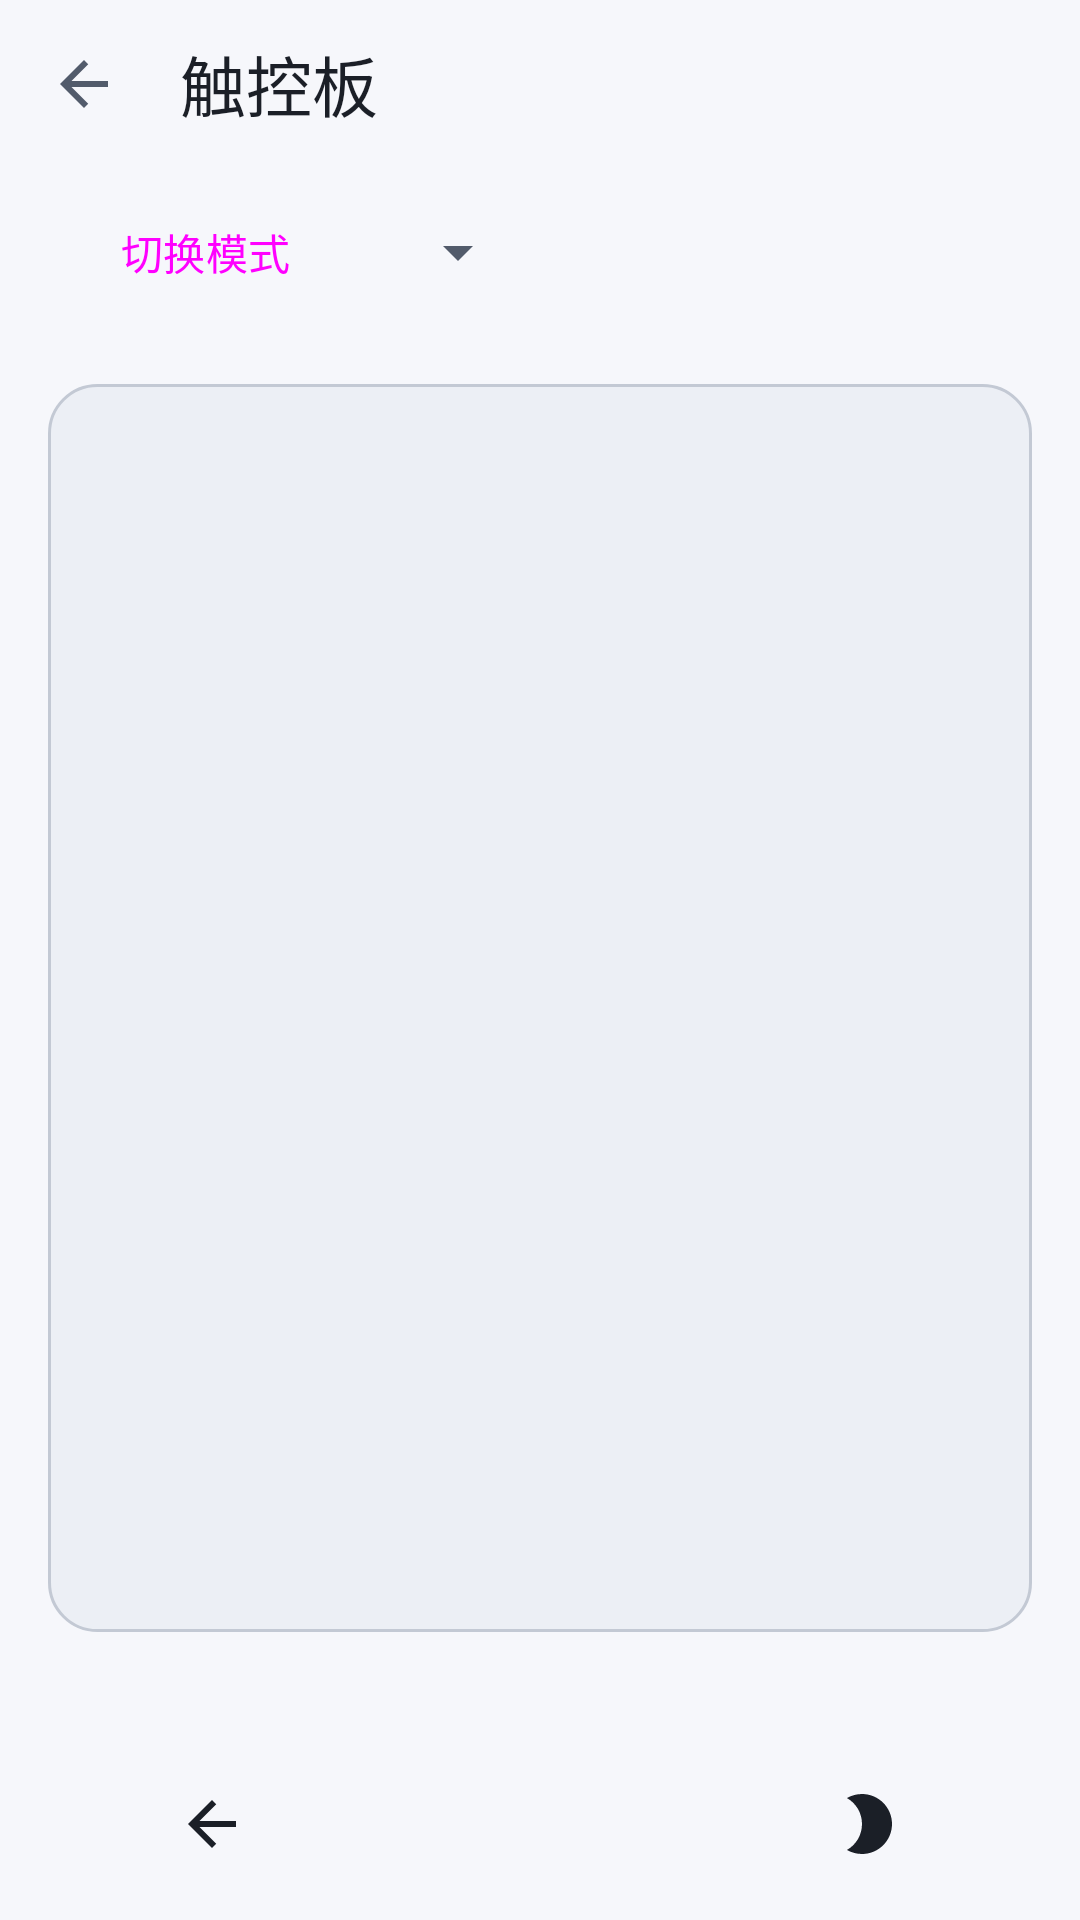

Icons on this 1080x1920 Android screen, each with the point to tap as [x,y]:
切换暗色模式: [869,1824]
